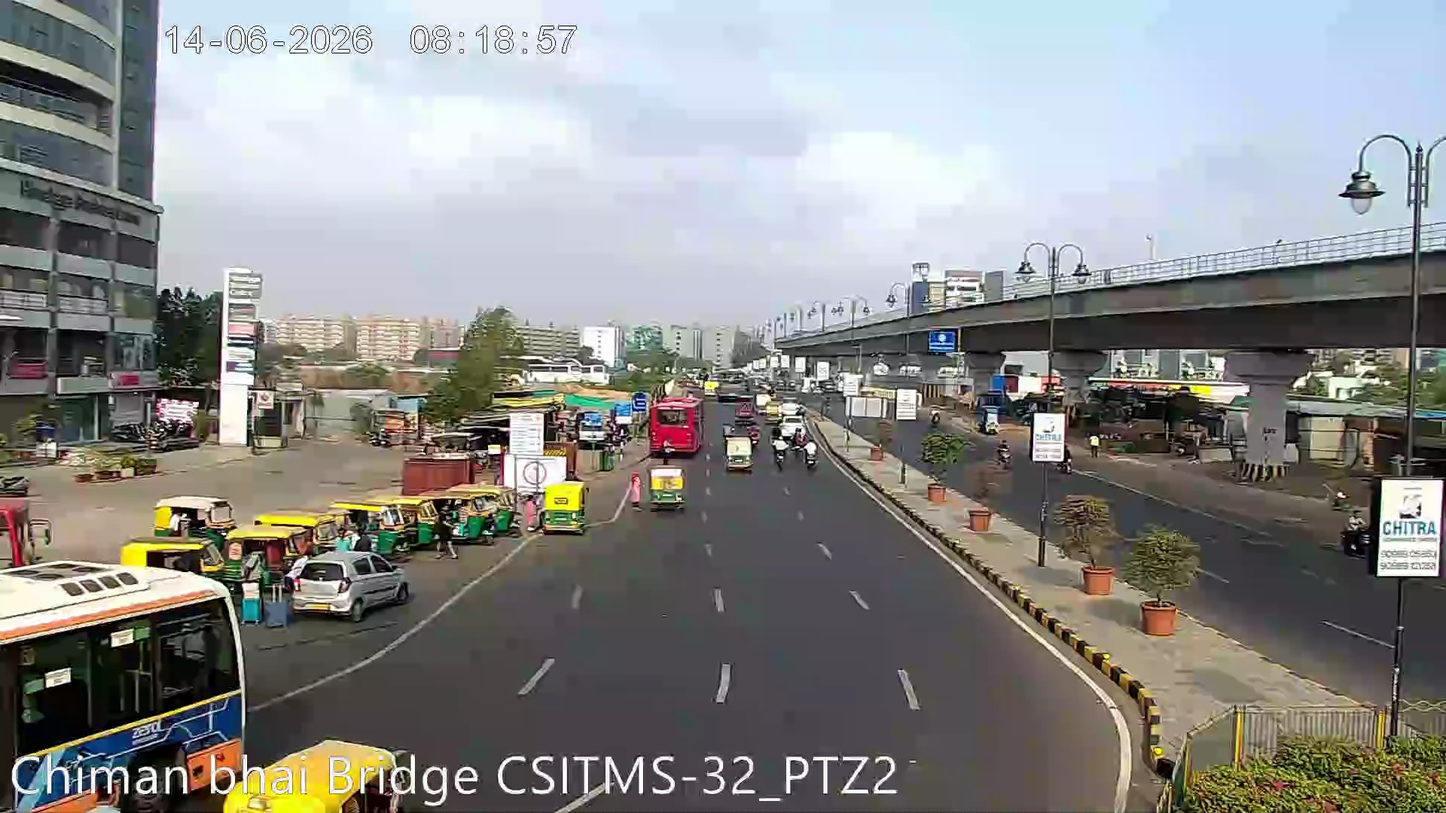auto_rickshaw: (216, 505, 346, 604), (330, 493, 432, 554), (368, 493, 442, 554), (445, 485, 513, 542), (539, 479, 589, 532), (648, 464, 687, 509), (723, 432, 756, 472)
bus: (0, 555, 264, 806), (650, 392, 702, 454)
car: (288, 539, 415, 618)
pedestrian: (626, 465, 645, 514)
two_wheeler: (1334, 506, 1370, 558), (992, 436, 1014, 471), (801, 436, 819, 473), (774, 437, 789, 474)
